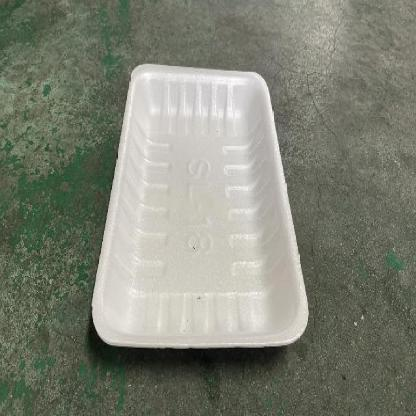Glass Cup: (91, 64, 309, 350), (92, 63, 309, 349)
